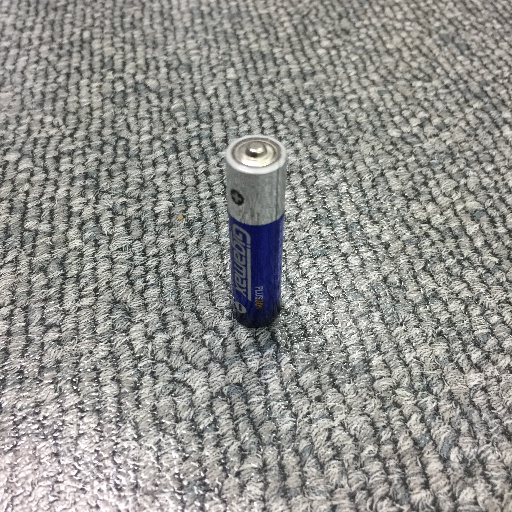Battery_0: (212, 127, 292, 331)
